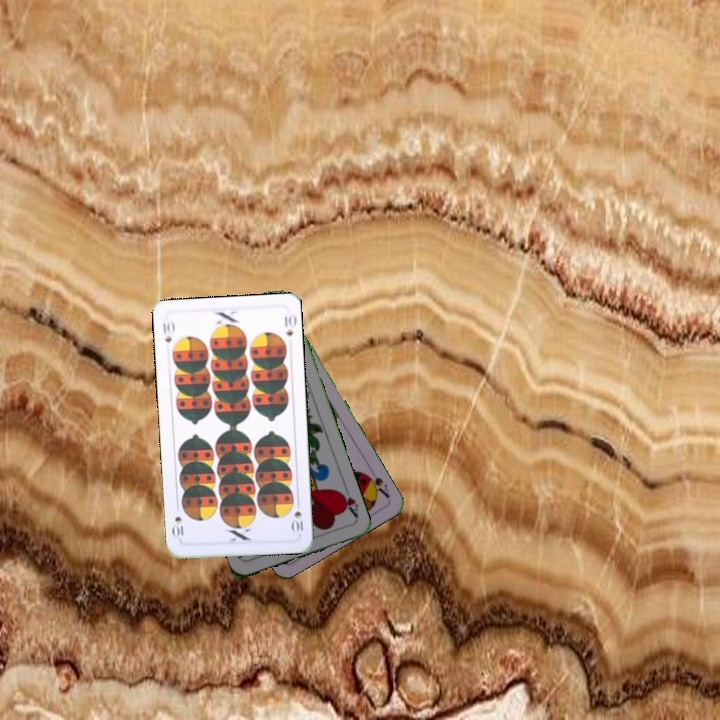HA: (334, 482, 361, 521)
S10: (288, 496, 307, 535), (159, 317, 177, 346)
SA: (360, 469, 392, 501)
